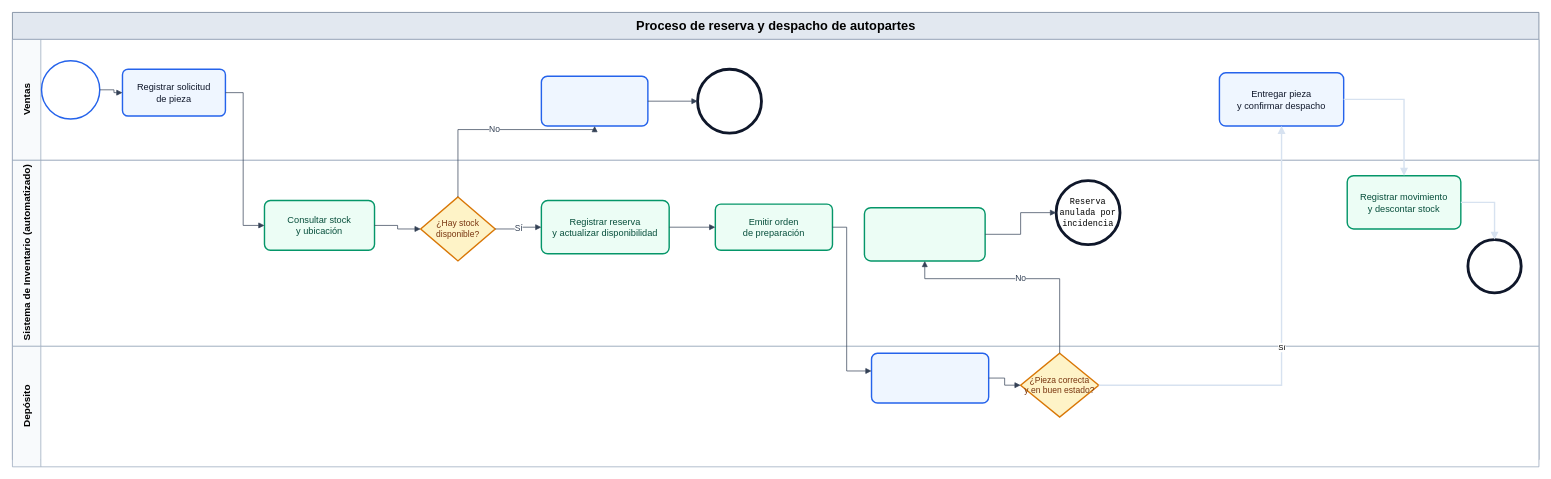
Some shapes in this 1551 by 479 pixel diagram are drawn without their labels. The shapes that lost their labels are listed below. From the top down, each one's centre as x and y in pixels, then its label:
At (x=70, y=89): "Solicitud de pieza recibida".
At (x=594, y=100): "Informar falta de stock".
At (x=729, y=100): "Solicitud sin stock".
At (x=924, y=234): "Registrar incidencia y anular reserva".
At (x=1494, y=266): "Despacho completado".
At (x=929, y=377): "Localizar y preparar la pieza".
